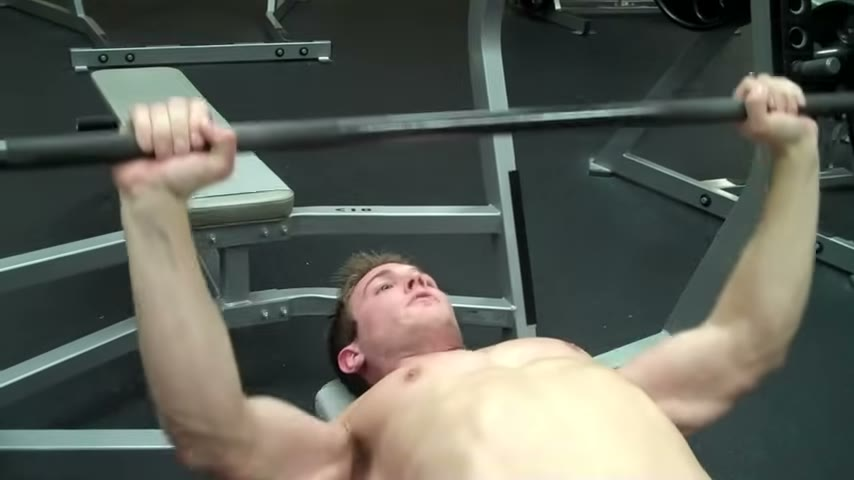barbell_plate_side: (311, 256, 426, 416)
